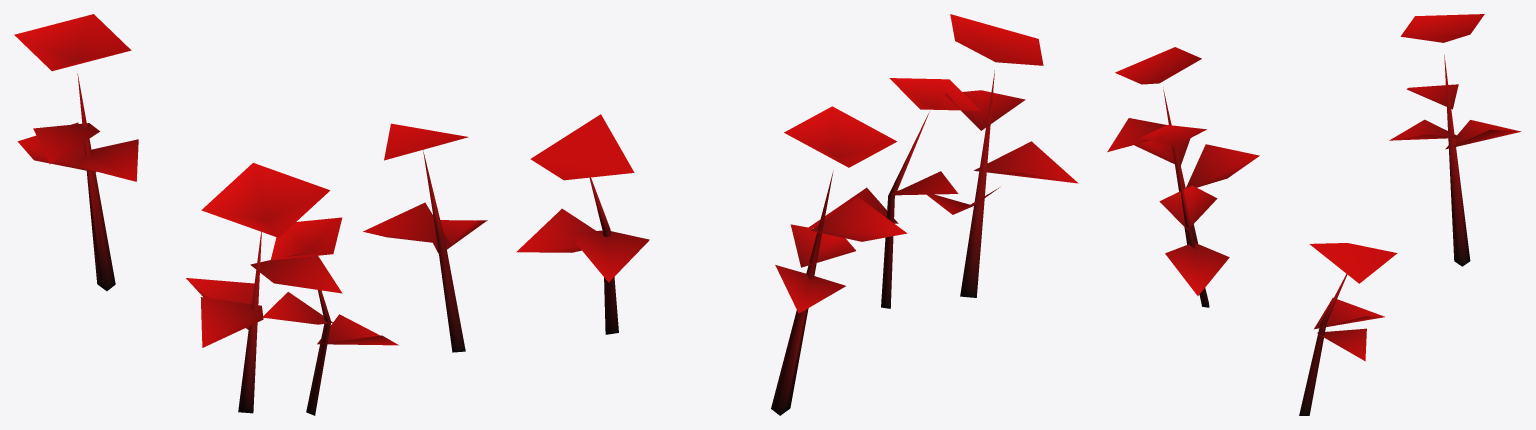
Rendered from G_WhiteFlower_003_S1.FBX.
The picture shows the model from 3 angles, left to right: view 1: azimuth 30°, elevation 25°; view 2: azimuth 150°, elevation 25°; view 3: azimuth 270°, elevation 25°; orthographic projection. The views are drawn at different scales.
Visible parts, largest first — view 1: G_WhiteFlower_003_S1_P01_LOD0; view 2: G_WhiteFlower_003_S1_P01_LOD0; view 3: G_WhiteFlower_003_S1_P01_LOD0.
Boxes of the visible parts, x1,y1,x2,y2 form: G_WhiteFlower_003_S1_P01_LOD0: [14, 14, 487, 415]; G_WhiteFlower_003_S1_P01_LOD0: [516, 14, 1078, 415]; G_WhiteFlower_003_S1_P01_LOD0: [1107, 14, 1520, 415].
Size of what is drawn, in the model's own units: 78.21 by 60.69 by 83.51.
